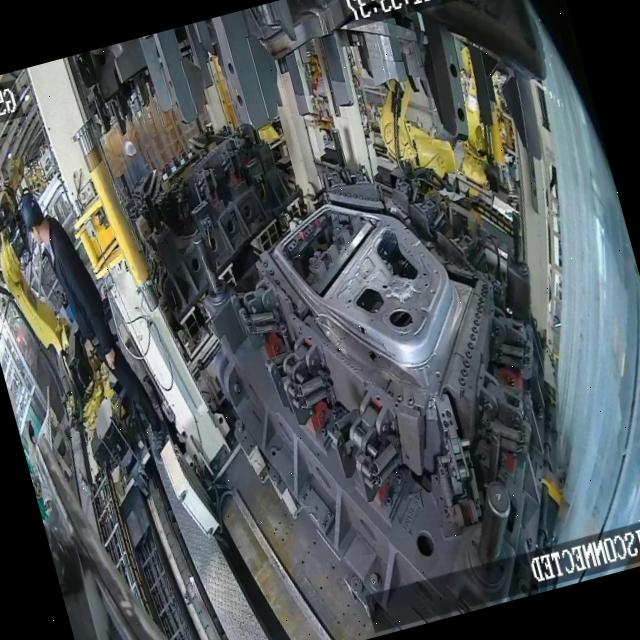Person: (17, 173, 173, 472)
